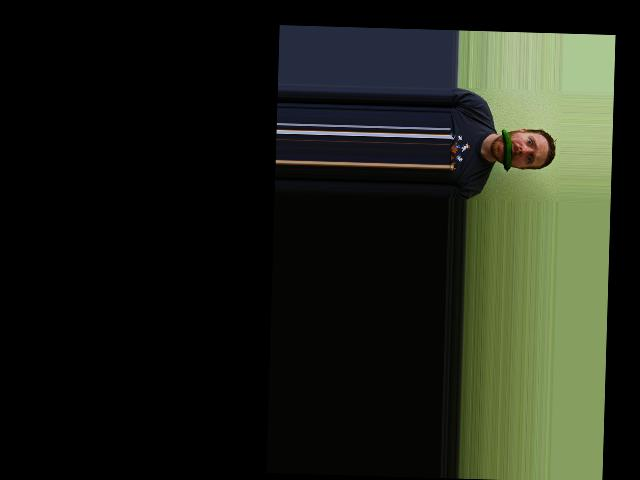cucumber: (500, 128, 512, 172)
